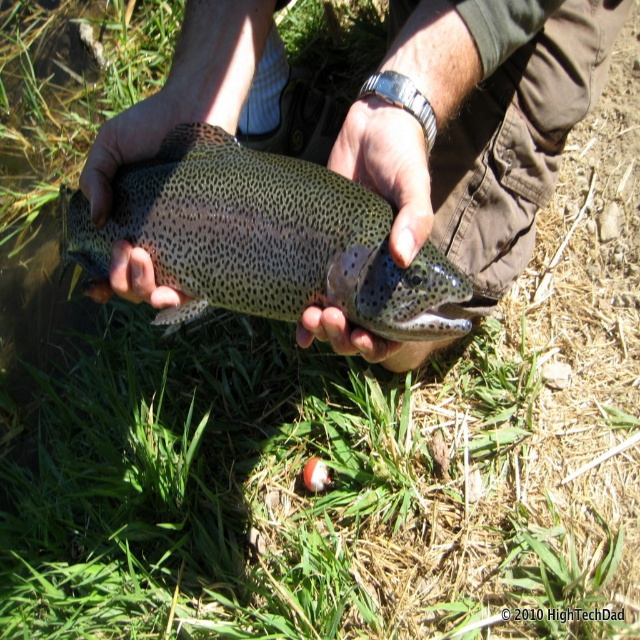Fish: (57, 121, 475, 345)
